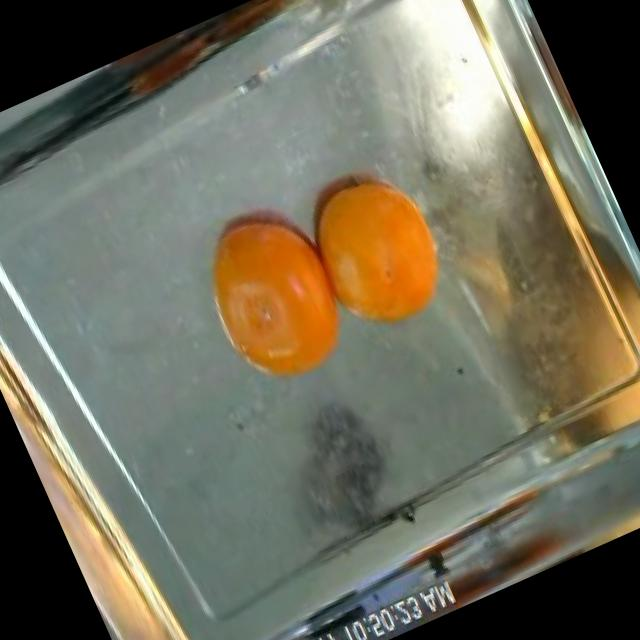Fruit: (168, 183, 378, 418), (278, 138, 474, 360)
